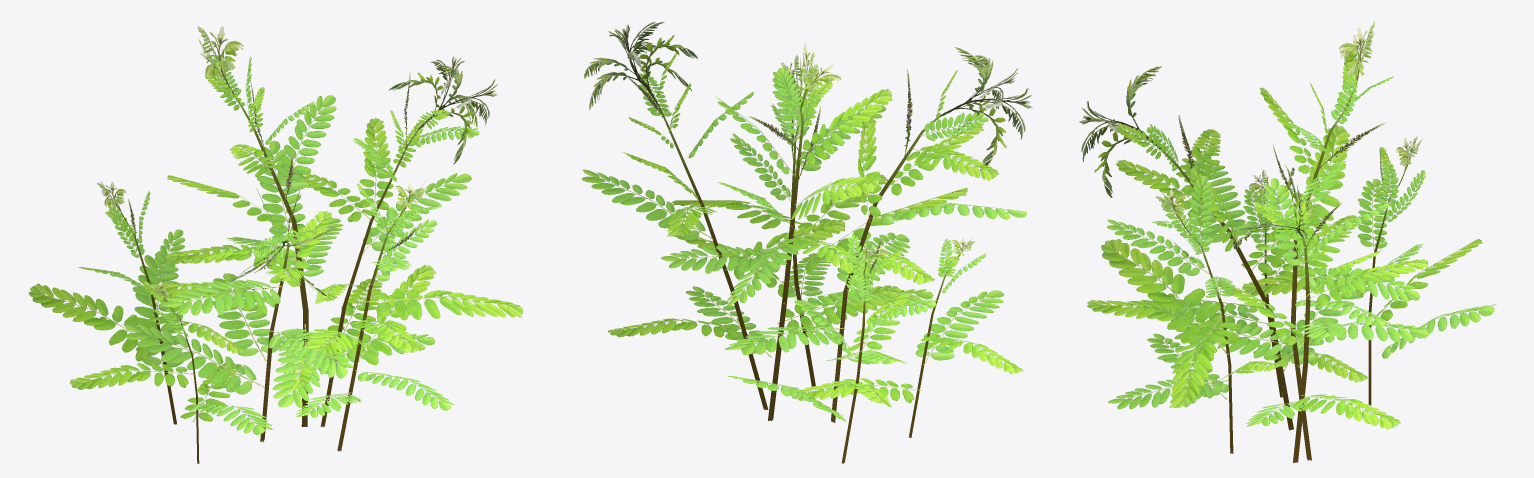
Rendered from m_grass_32_2.fbx.
3 renders of one model, left to right at view 1: azimuth 30°, elevation 25°; view 2: azimuth 150°, elevation 25°; view 3: azimuth 270°, elevation 25°, orthographic. The views are drawn at different scales.
Visible parts, largest first — view 1: mesh_grass_32_2_LOD0; view 2: mesh_grass_32_2_LOD0; view 3: mesh_grass_32_2_LOD0.
Part boxes in pixels (left/top/right/bottom): mesh_grass_32_2_LOD0: left=28, top=26, right=523, bottom=463; mesh_grass_32_2_LOD0: left=582, top=22, right=1032, bottom=463; mesh_grass_32_2_LOD0: left=1079, top=21, right=1496, bottom=462.
Size of what is drawn, in the model's own units: 0.8653 by 0.7893 by 0.765.
